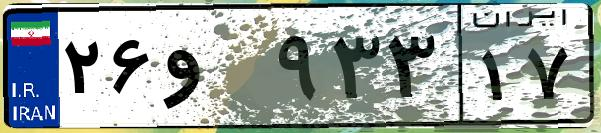1: (475, 38, 525, 113)
2: (57, 26, 110, 100)
3: (385, 28, 445, 110), (330, 28, 385, 110)
6: (110, 28, 158, 98)
7: (525, 38, 570, 115)
9: (270, 28, 330, 110)
و: (158, 20, 270, 120)
